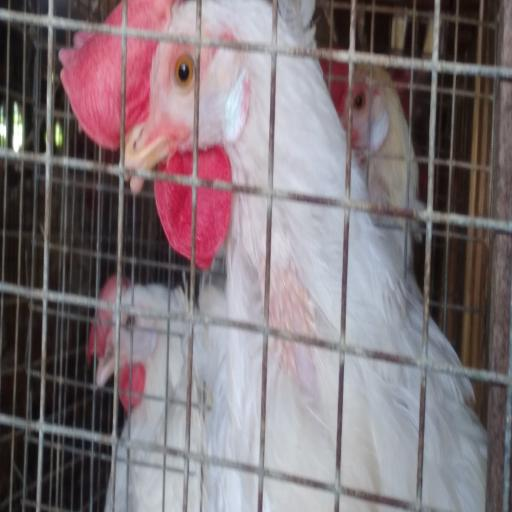healthy: (106, 2, 259, 194)
